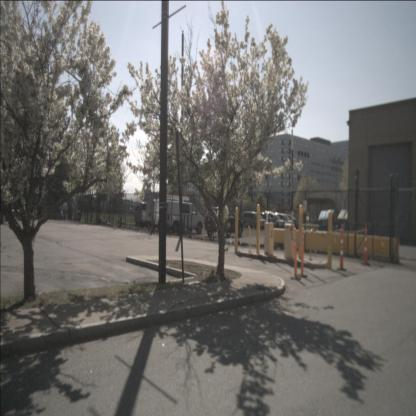cone: (297, 227, 308, 278), (291, 227, 301, 280), (337, 223, 347, 272), (361, 222, 370, 266)
